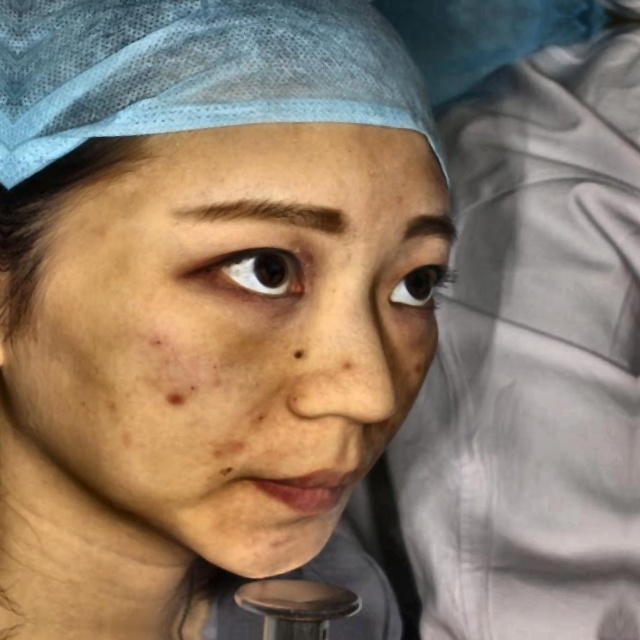comedone: (215, 431, 253, 467), (265, 526, 303, 562), (158, 382, 186, 414)
